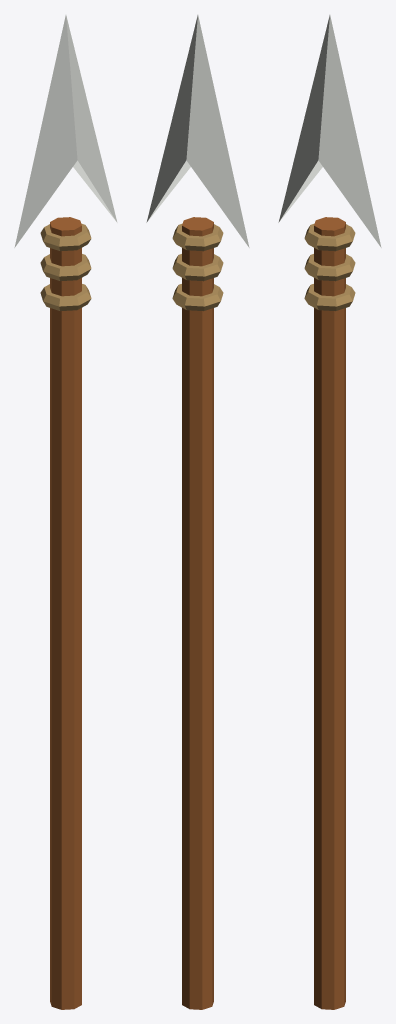
File: kit_spear.glb
The picture shows the model from 3 angles, left to right: view 1: azimuth 30°, elevation 25°; view 2: azimuth 150°, elevation 25°; view 3: azimuth 330°, elevation 25°; orthographic projection.
Visible parts, largest first — view 1: Ash spear shaft, Leaf spearhead, Spear binding.002, Spear binding, Spear binding.001; view 2: Ash spear shaft, Leaf spearhead, Spear binding.002, Spear binding, Spear binding.001; view 3: Ash spear shaft, Leaf spearhead, Spear binding.002, Spear binding, Spear binding.001.
Boxes of the visible parts, left/top/right/bottom form: Ash spear shaft: left=50, top=217, right=81, bottom=1009; Leaf spearhead: left=14, top=15, right=117, bottom=247; Spear binding.002: left=40, top=223, right=91, bottom=251; Spear binding: left=40, top=284, right=91, bottom=311; Spear binding.001: left=40, top=254, right=91, bottom=281; Ash spear shaft: left=182, top=217, right=213, bottom=1009; Leaf spearhead: left=146, top=15, right=249, bottom=247; Spear binding.002: left=172, top=223, right=223, bottom=251; Spear binding: left=172, top=284, right=223, bottom=311; Spear binding.001: left=172, top=254, right=223, bottom=281; Ash spear shaft: left=314, top=217, right=345, bottom=1009; Leaf spearhead: left=278, top=15, right=381, bottom=247; Spear binding.002: left=304, top=223, right=355, bottom=251; Spear binding: left=304, top=284, right=355, bottom=311; Spear binding.001: left=304, top=254, right=355, bottom=281.
Size of the model in its own units: 0.18 by 1.65 by 0.08.
